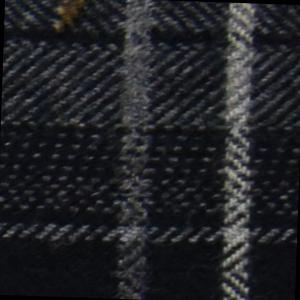Oil Stain: (51, 1, 90, 40)
